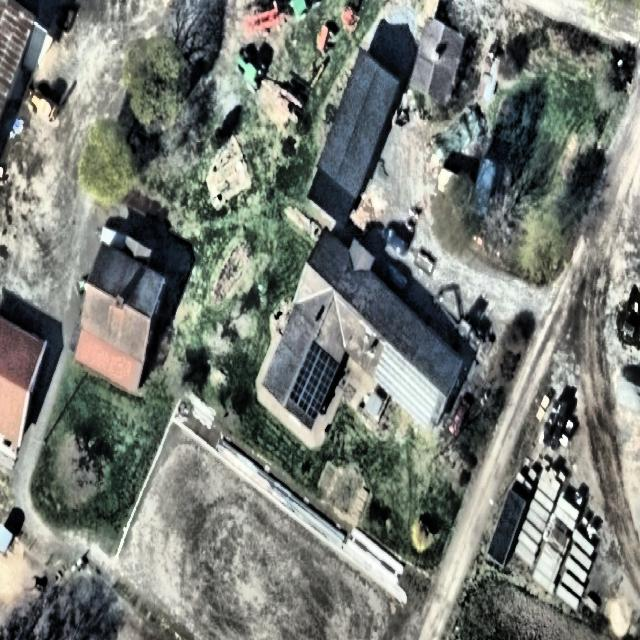roof_pv: (375, 344, 438, 428), (286, 339, 341, 419)
